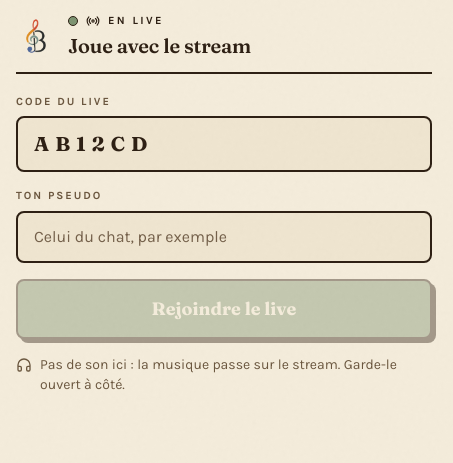
Test: page viewer › pseudo deja pris : le formulaire revient avec le message
In the field labelled "Ton pseudo": coordinates (224, 236) x1=16 y1=210 x2=432 y2=262, type "Lena"
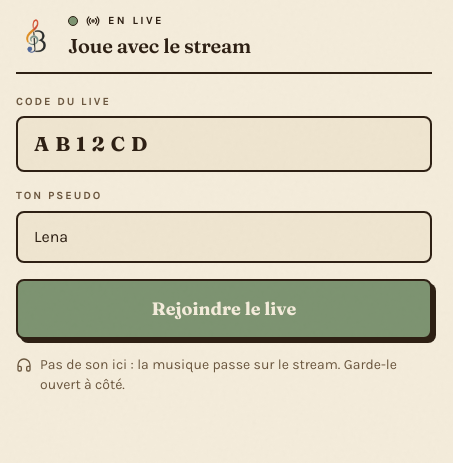
Click the button "Rejoindre le live": coordinates (224, 308) x1=16 y1=278 x2=432 y2=338
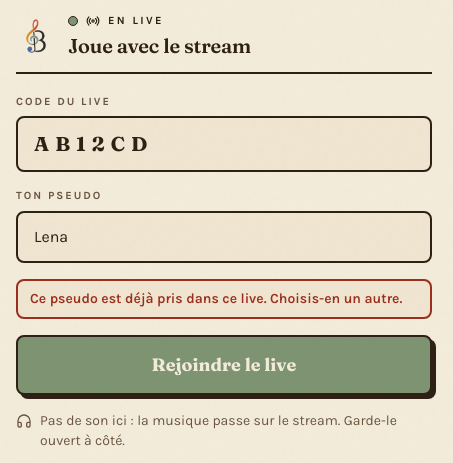
Check: the message shows "Ce pseudo est déjà pris", box x1=30 y1=290 x2=402 y2=306
